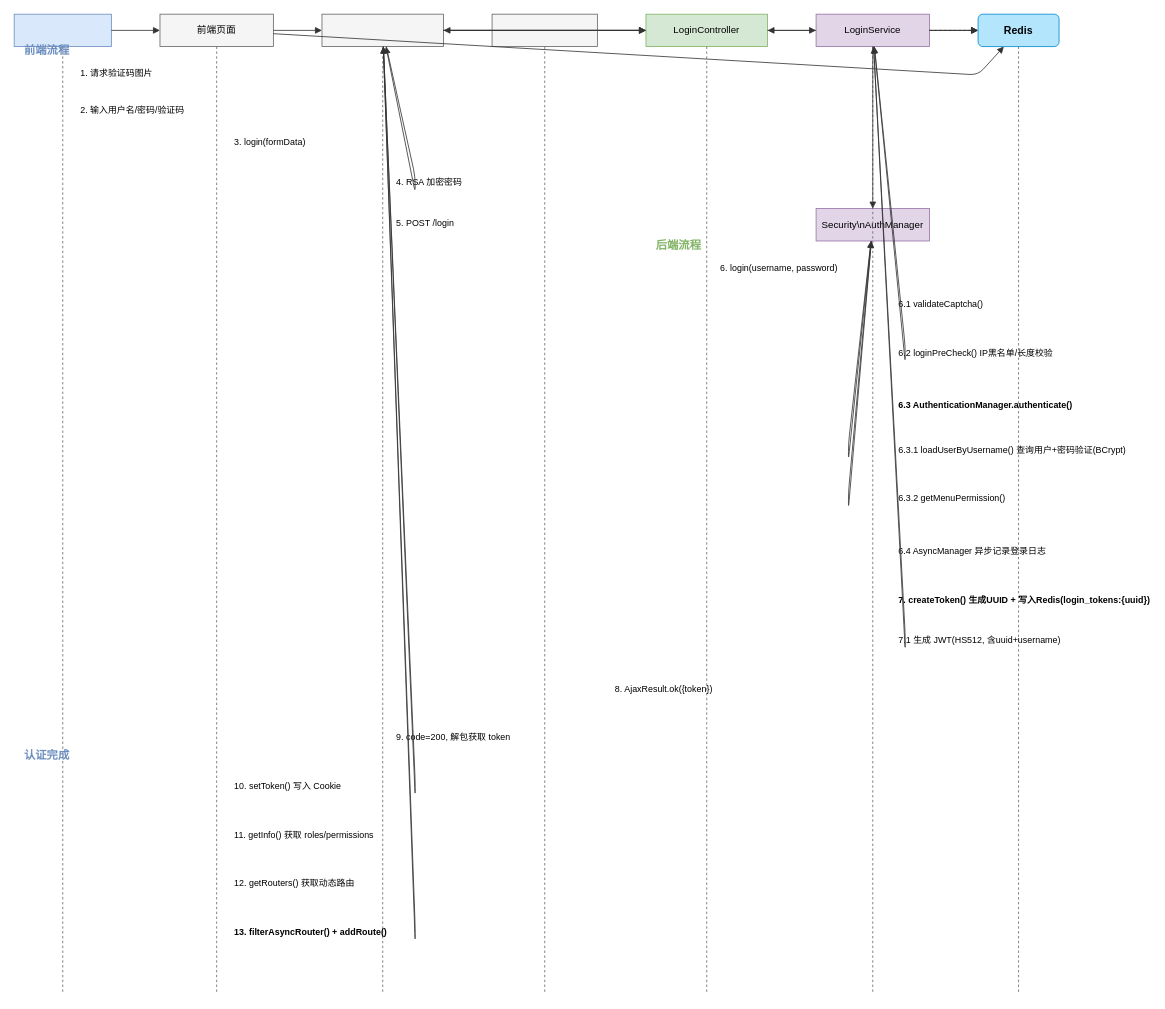
The diagram is 1165 pixels wide and 1009 high, and some of its shapes have lost their labels. Each missing label, with the centre of its shape:
Axios/HTTP: (544,30)
Pinia userStore: (382,30)
用户: (62,30)
